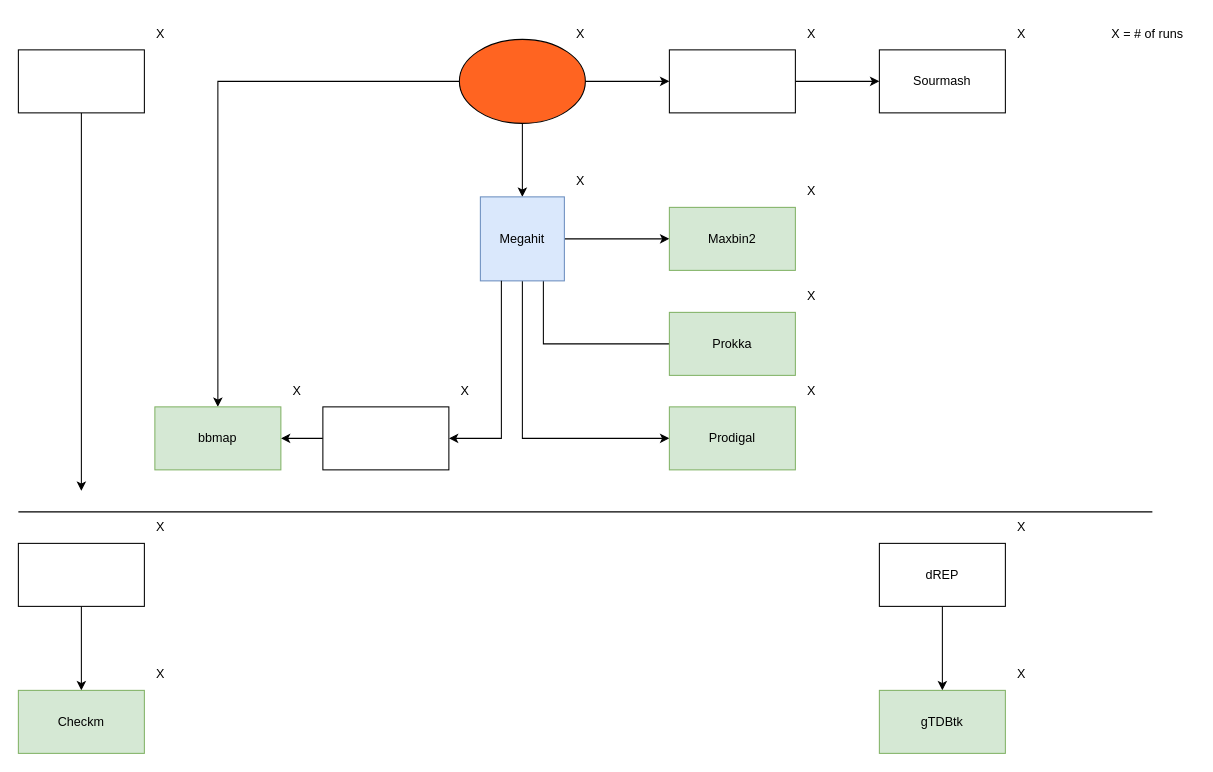
The diagram is 1213 pixels wide and 772 high, and some of its shapes have lost their labels. Here are the shapes that lost their labels. From the top down, the centre of each, then its label:
At pixel 80 81: "Fastqc".
At pixel 521 80: "FASTP".
At pixel 731 81: "Interleave".
At pixel 385 438: "bbdp".
At pixel 80 574: "Multiqc".
